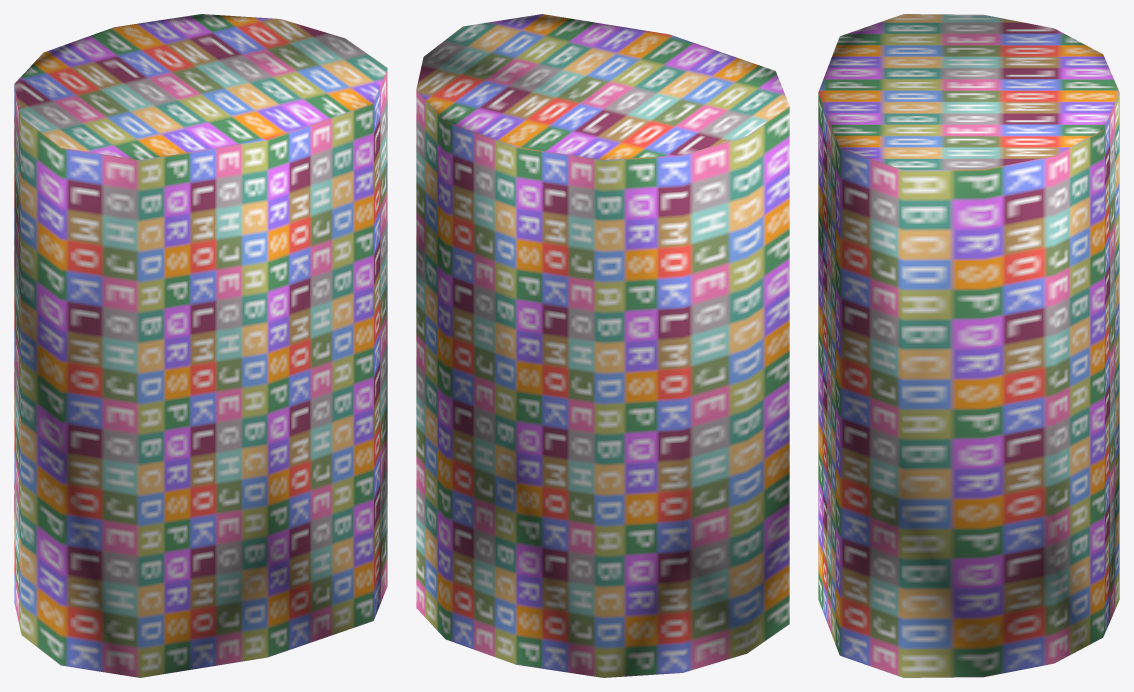
The model's file is snakebody.obj.
3 renders of one model, left to right at view 1: azimuth 30°, elevation 25°; view 2: azimuth 150°, elevation 25°; view 3: azimuth 270°, elevation 25°, orthographic. The views are drawn at different scales.
Visible parts, largest first — view 1: Cube4; view 2: Cube4; view 3: Cube4.
Part boxes in pixels (x1,y1,x2,y2): Cube4: [14, 14, 387, 677]; Cube4: [416, 14, 789, 677]; Cube4: [818, 14, 1119, 677].
Bounding box in the file's own units: 1.32 × 2 × 1.08.
Materials: 1 (1 with a texture image).
